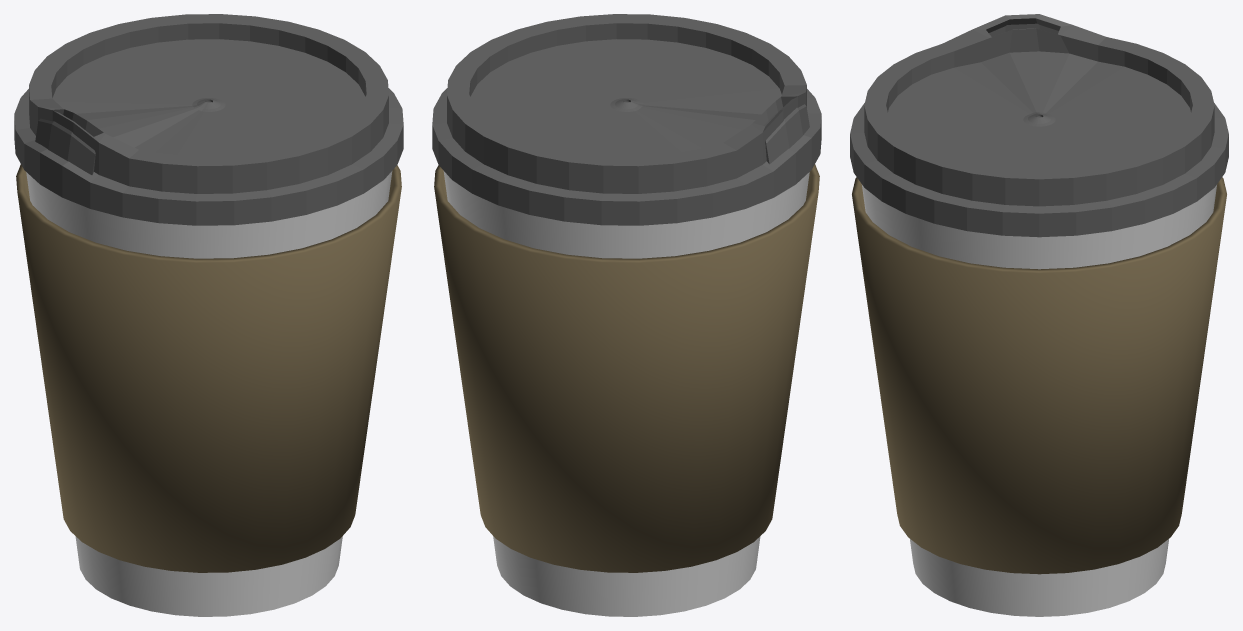
File: cup.fbx
3 views of the same model, side by side, from view 1: azimuth 30°, elevation 25°; view 2: azimuth 150°, elevation 25°; view 3: azimuth 270°, elevation 25° (orthographic). The views are drawn at different scales.
Parts seen in each view (by area): view 1: CupHolder, Cylinder, Cup; view 2: CupHolder, Cylinder, Cup; view 3: CupHolder, Cylinder, Cup.
Part boxes in pixels (<box>): CupHolder: <box>16,164,401,572</box>; Cylinder: <box>14,14,403,225</box>; Cup: <box>26,171,392,616</box>; CupHolder: <box>434,164,819,572</box>; Cylinder: <box>432,14,821,225</box>; Cup: <box>443,171,809,616</box>; CupHolder: <box>852,177,1226,574</box>; Cylinder: <box>850,14,1228,237</box>; Cup: <box>862,185,1216,616</box>.
Bounding box in the file's own units: 300 × 416 × 300.
